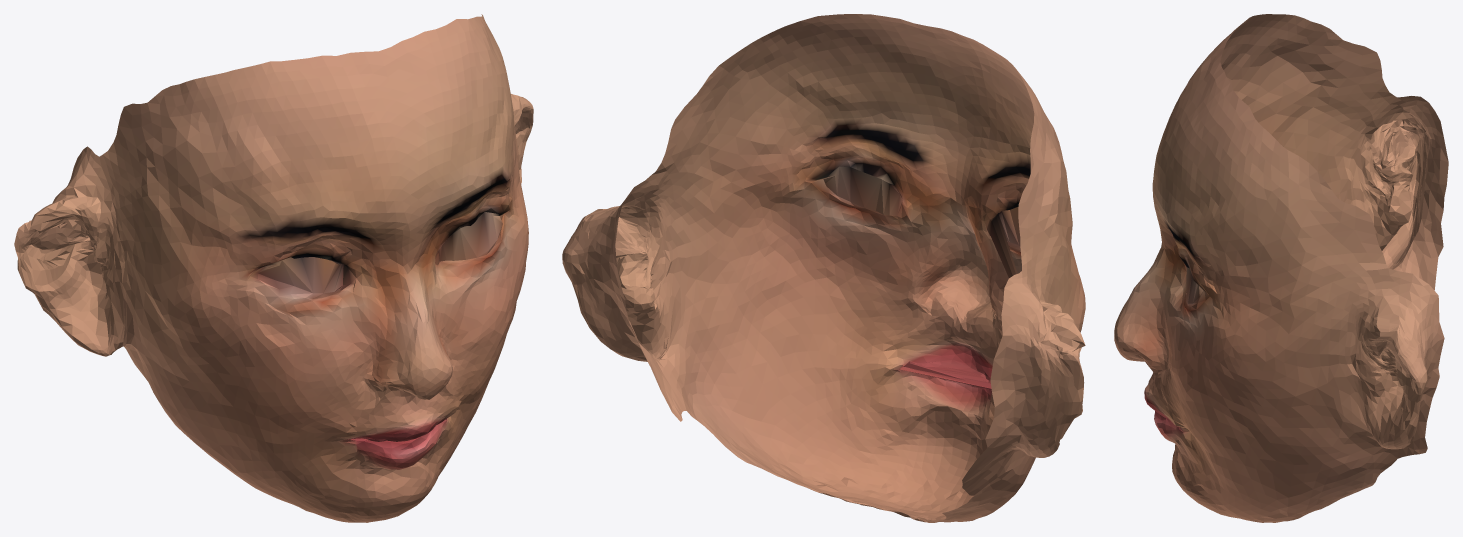
The model's file is seed0002.obj.
The picture shows the model from 3 angles, left to right: view 1: azimuth 30°, elevation 25°; view 2: azimuth 150°, elevation 25°; view 3: azimuth 270°, elevation 25°; orthographic projection. The views are drawn at different scales.
Size of the model in its own units: 256 by 224 by 151.
